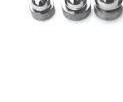ironball: (20, 0, 53, 24), (60, 0, 89, 18), (91, 0, 122, 13)
